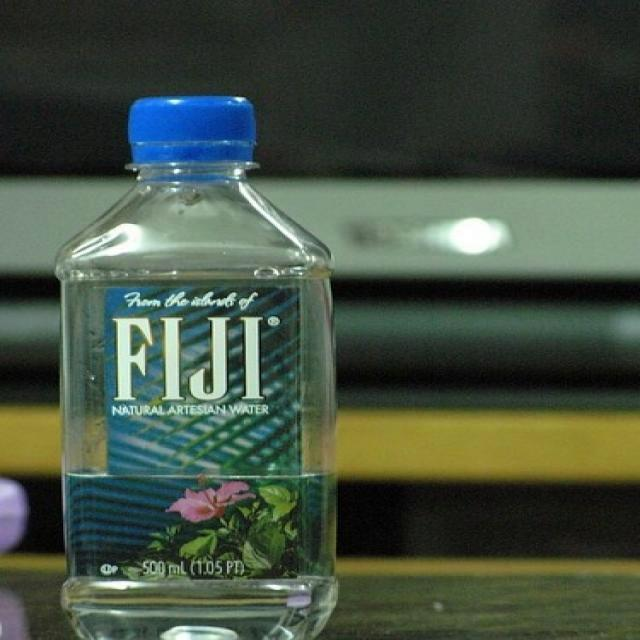bottle: (54, 95, 339, 640)
